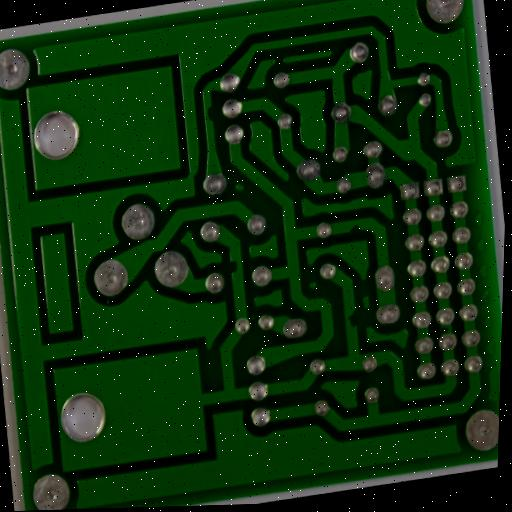mouse_bite: (340, 213, 366, 237), (340, 306, 362, 333), (199, 101, 219, 126), (225, 255, 246, 278), (437, 322, 454, 339)
